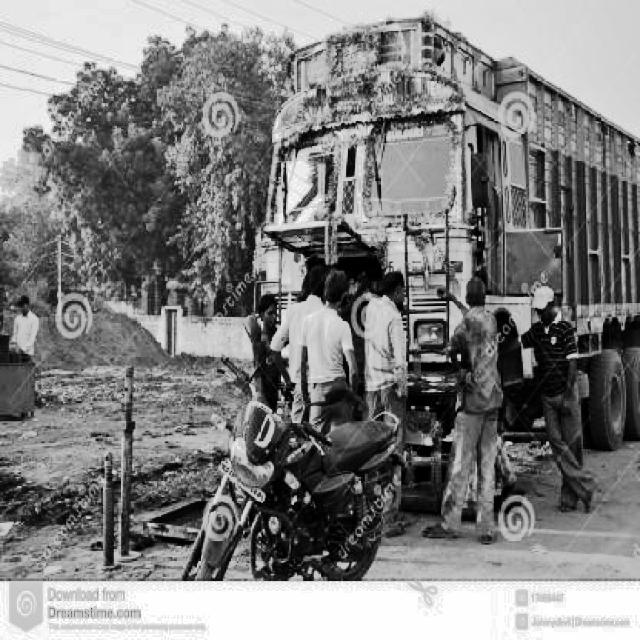HCV: (266, 37, 640, 483)
